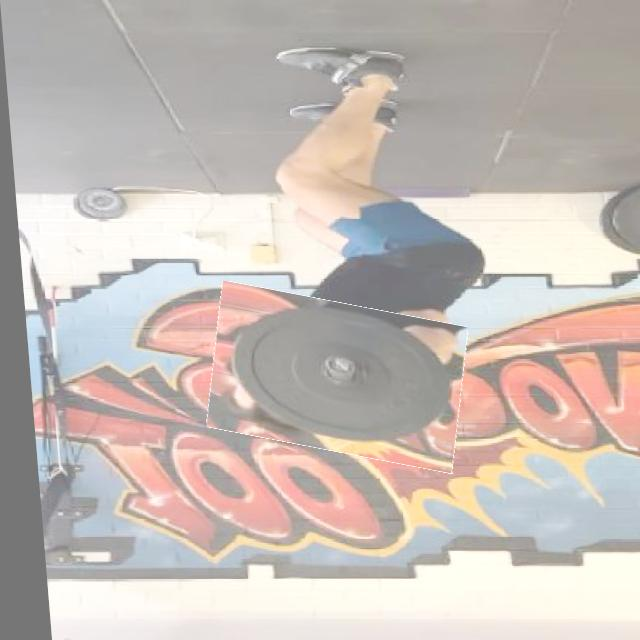barbell: (198, 293, 466, 464)
